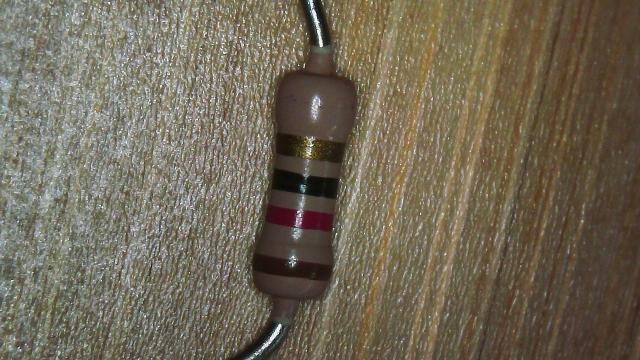black: (266, 167, 352, 200)
brown: (249, 256, 338, 280)
gold: (272, 127, 353, 163)
red: (264, 209, 342, 229)
resistor: (245, 46, 359, 306)
